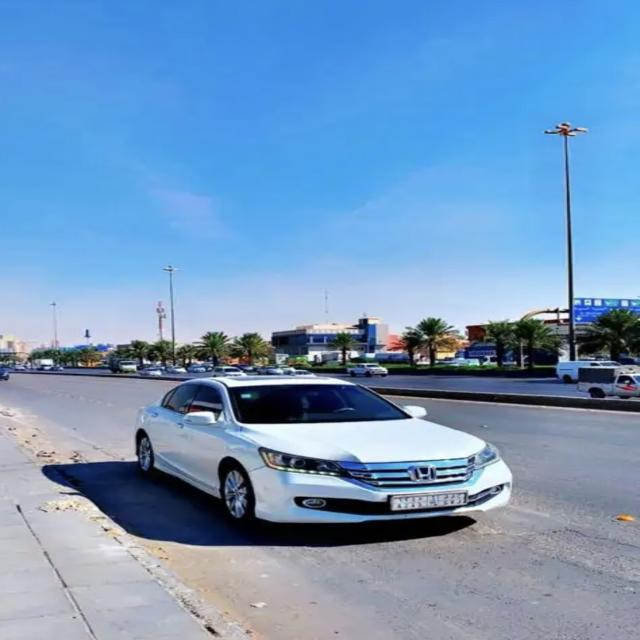license_plate: (387, 494, 470, 509)
